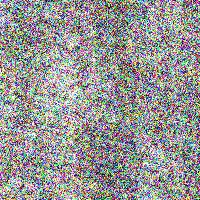crazing: (22, 15, 189, 85)
